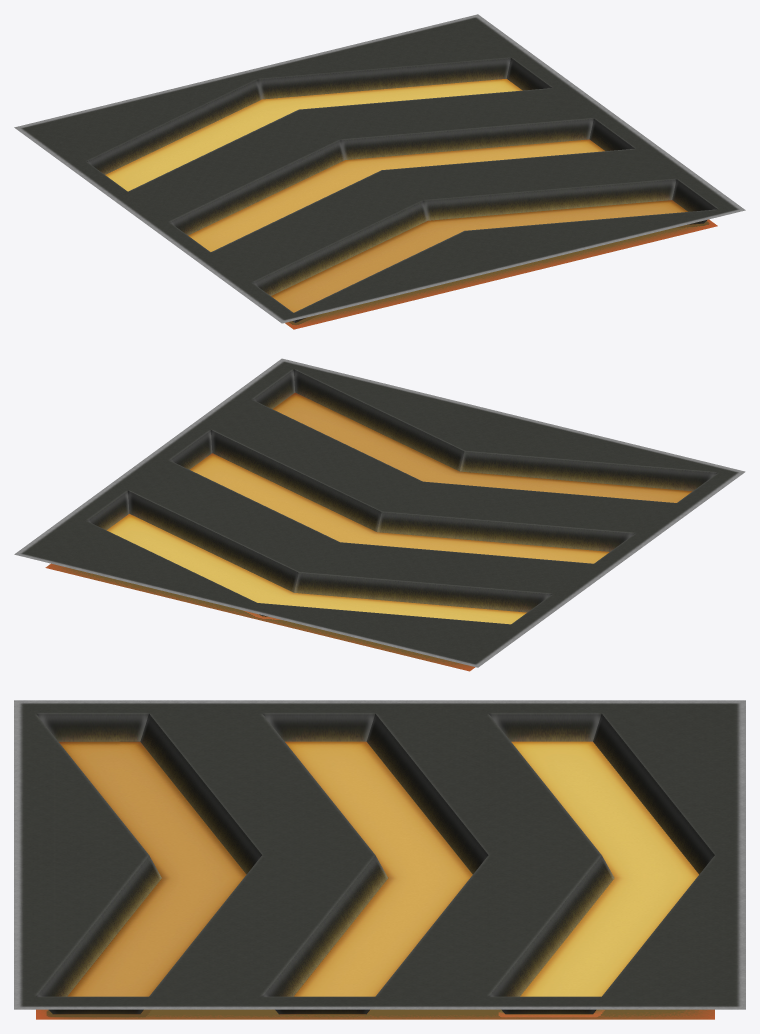
Rendered from SpeedUp.FBX.
3 renders of one model, top to bottom at view 1: azimuth 30°, elevation 25°; view 2: azimuth 150°, elevation 25°; view 3: azimuth 270°, elevation 25°, orthographic. The views are drawn at different scales.
Parts seen in each view (by area): view 1: speedup, speedup_move; view 2: speedup, speedup_move; view 3: speedup, speedup_move.
Part boxes in pixels (x1,y1,x2,y2): speedup: (14, 14, 745, 323); speedup_move: (105, 78, 717, 329); speedup: (14, 358, 745, 667); speedup_move: (45, 392, 692, 671); speedup: (14, 700, 745, 1014); speedup_move: (36, 741, 714, 1019).
Bounding box in the file's own units: 50 × 2.07 × 50.
Materials: 2 (2 with a texture image).
